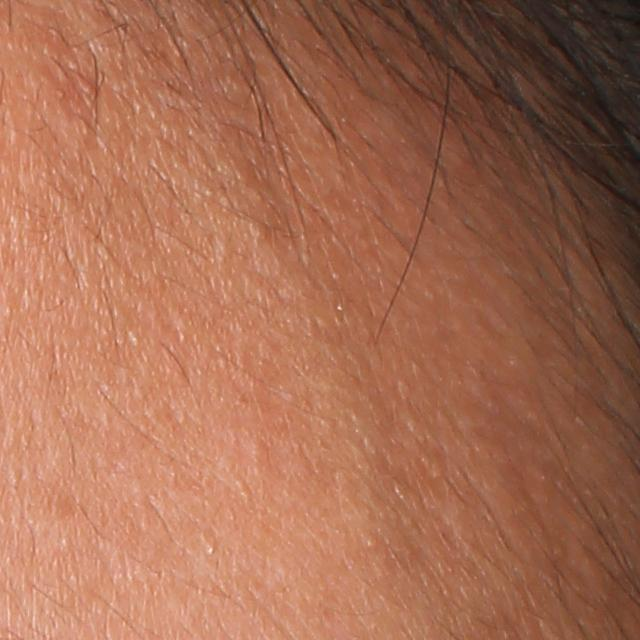comedo: (361, 535, 378, 550)
